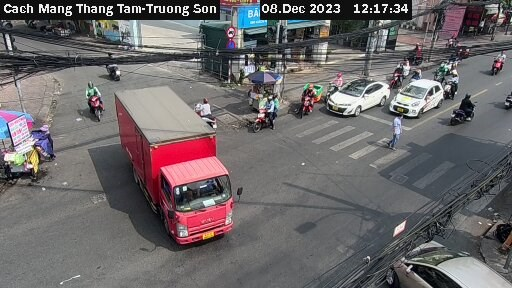car: (325, 76, 388, 117), (387, 78, 451, 118)
motorbike: (73, 86, 116, 129), (251, 100, 294, 137), (295, 83, 335, 119), (96, 49, 133, 86), (189, 98, 227, 131), (450, 92, 481, 129), (484, 46, 512, 71), (440, 72, 467, 96), (404, 44, 429, 66), (384, 63, 402, 84)
truck: (110, 85, 245, 236)
